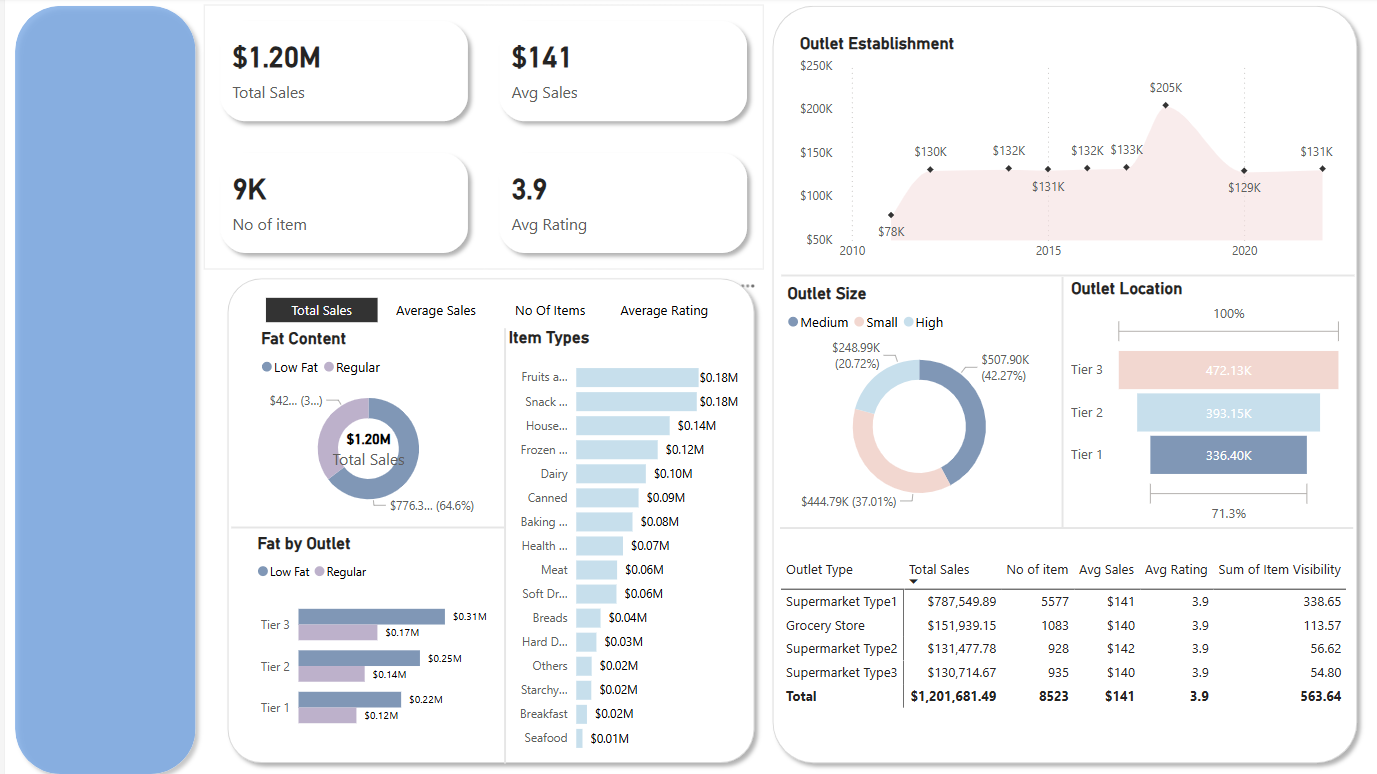

The page's visual inventory and layout, read from the dashboard file:
{"tool":"powerbi","page":{"name":"Page 1","canvas":[1400,800],"ordinal":0},"visuals":[{"type":"shape","box":[1.4,0,201.8,800.3],"z":0},{"type":"cardVisual","fields":{"Data":["BlinkIT Grocery Data.Total Sales","BlinkIT Grocery Data.Average Sales","BlinkIT Grocery Data.No Of Items","BlinkIT Grocery Data.Average Rating"]},"box":[202.1,7.1,570,270],"z":1000},{"type":"shape","box":[217.1,277.1,554.3,511.4],"z":2000},{"type":"donutChart","title":"Fat Content","fields":{"Y":["BlinkIT Grocery Data.Total Sales"],"Category":["BlinkIT Grocery Data.Item Fat Content"]},"box":[255,337.5,228.8,196.2],"z":3000},{"type":"slicer","fields":{"Values":["Metrics.Metrics"]},"box":[238.6,298.6,512.9,37.1],"z":4000},{"type":"cardVisual","fields":{"Data":["BlinkIT Grocery Data.Total Sales"]},"box":[298.8,425,142.5,66.2],"z":5000},{"type":"clusteredBarChart","title":"Fat by Outlet","fields":{"Y":["BlinkIT Grocery Data.Total Sales"],"Category":["BlinkIT Grocery Data.Outlet Location Type"],"Series":["BlinkIT Grocery Data.Item Fat Content"]},"box":[251.4,545.7,244.3,217.1],"z":6000},{"type":"shape","box":[230,506.2,277.5,67.5],"z":7000},{"type":"shape","box":[438.6,337.1,140,442.9],"z":8000},{"type":"barChart","title":"Item Types","fields":{"Y":["BlinkIT Grocery Data.Total Sales"],"Category":["BlinkIT Grocery Data.Item Type"]},"box":[507.5,336.2,243.8,443.8],"z":9000},{"type":"shape","box":[771.4,0,612.9,788.6],"z":10000},{"type":"lineChart","title":"Outlet Establishment","fields":{"Y":["BlinkIT Grocery Data.Total Sales"],"Category":["BlinkIT Grocery Data.Outlet Establishment Year"]},"box":[803.3,36.7,555,240],"z":11000},{"type":"shape","box":[790,244.3,582.9,78.6],"z":12000},{"type":"donutChart","title":"Outlet Size","fields":{"Y":["BlinkIT Grocery Data.Total Sales"],"Category":["BlinkIT Grocery Data.Outlet Size"]},"box":[791.2,291.2,278.8,242.5],"z":13000},{"type":"shape","box":[1005.7,284.3,140,255.7],"z":14000},{"type":"funnel","title":"Outlet Location","fields":{"Y":["Sum(BlinkIT Grocery Data.Sales)"],"Category":["BlinkIT Grocery Data.Outlet Location Type"]},"box":[1080,285.7,287.1,254.3],"z":15000},{"type":"shape","box":[788.6,501.4,582.9,78.6],"z":16000},{"type":"pivotTable","fields":{"Rows":["BlinkIT Grocery Data.Outlet Type"],"Values":["BlinkIT Grocery Data.Total Sales","BlinkIT Grocery Data.No Of Items","BlinkIT Grocery Data.Average Sales","BlinkIT Grocery Data.Average Rating","Sum(BlinkIT Grocery Data.Item Visibility)"]},"box":[784.4,564.4,588.9,180],"z":17000},{"type":"textbox","box":[10.9,36.8,184.1,75],"z":17001},{"type":"textbox","box":[21.8,91.3,160.9,40.9],"z":17003}]}

Visuals, with their boxes in screenshot pixels (x1, y1, x2, y2), scaled from the page's 1400x800 canvas onto the 1377x774 screenshot:
shape: <box>1,0,200,773</box>
cardVisual - BlinkIT Grocery Data.Total Sales x BlinkIT Grocery Data.Average Sales: <box>199,7,759,268</box>
shape: <box>214,268,759,763</box>
"Fat Content" donutChart: <box>251,327,476,516</box>
slicer - Metrics.Metrics: <box>235,289,739,325</box>
cardVisual - BlinkIT Grocery Data.Total Sales: <box>294,411,434,475</box>
"Fat by Outlet" clusteredBarChart: <box>247,528,488,738</box>
shape: <box>226,490,499,555</box>
shape: <box>431,326,569,755</box>
"Item Types" barChart: <box>499,325,739,755</box>
shape: <box>759,0,1362,763</box>
"Outlet Establishment" lineChart: <box>790,36,1336,268</box>
shape: <box>777,236,1350,312</box>
"Outlet Size" donutChart: <box>778,282,1052,516</box>
shape: <box>989,275,1127,522</box>
"Outlet Location" funnel: <box>1062,276,1345,522</box>
shape: <box>776,485,1349,561</box>
pivotTable - BlinkIT Grocery Data.Outlet Type x BlinkIT Grocery Data.Total Sales: <box>772,546,1351,720</box>
textbox: <box>11,36,192,108</box>
textbox: <box>21,88,180,128</box>
